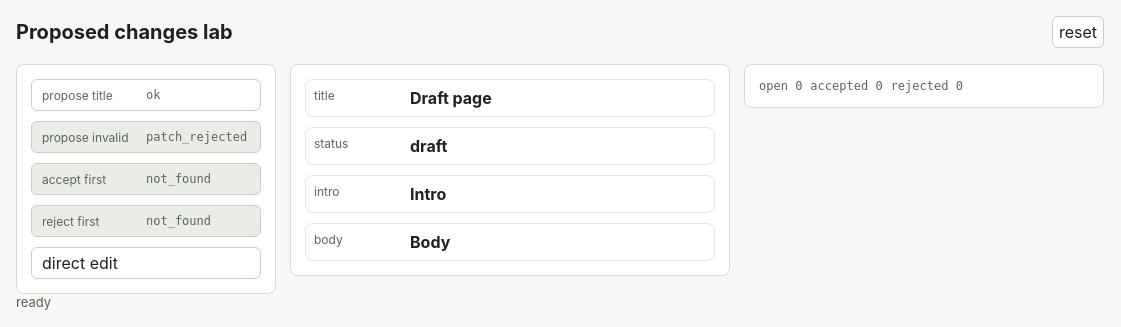
Test: proposed changes lab dogfood › proposes and accepts a document change
This screenshot has width=1121, height=327.
Step 1. Click the button "propose title ok" → (146, 95), box [31,79,261,111]
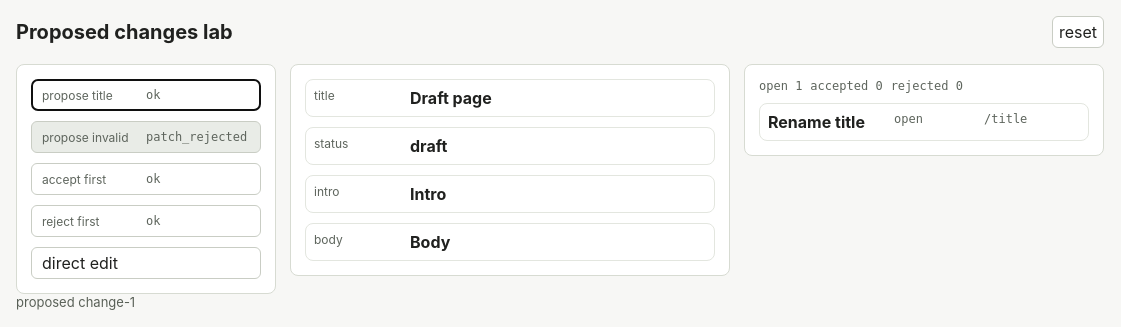
Check: the text "Draft page" is shown, box [410,88,492,108]
Check: the message reads "proposed change-1", box [16,294,135,310]
Check: the button "accept first ok" is enabled
Step 2. Click the button "accept first ok" → (146, 179), box [31,163,261,195]
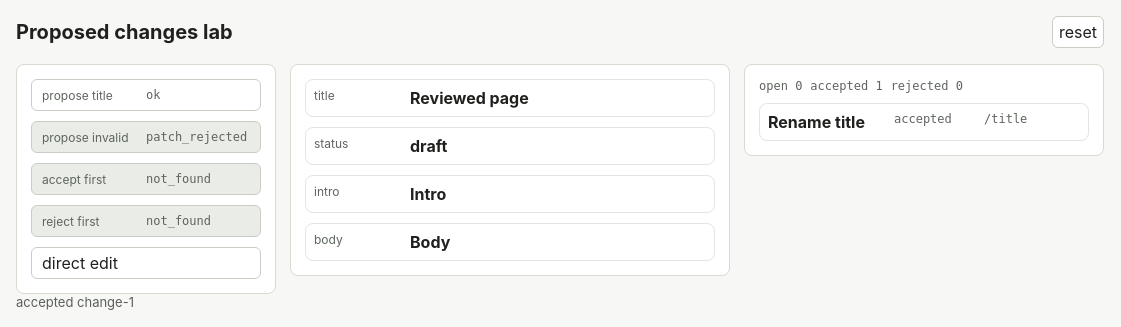
Check: the message reads "accepted change-1", box [16,294,134,310]
Check: the text "Reviewed page" is shown, box [410,88,529,108]
Check: the text "accepted" is shown, box [894,112,952,126]
